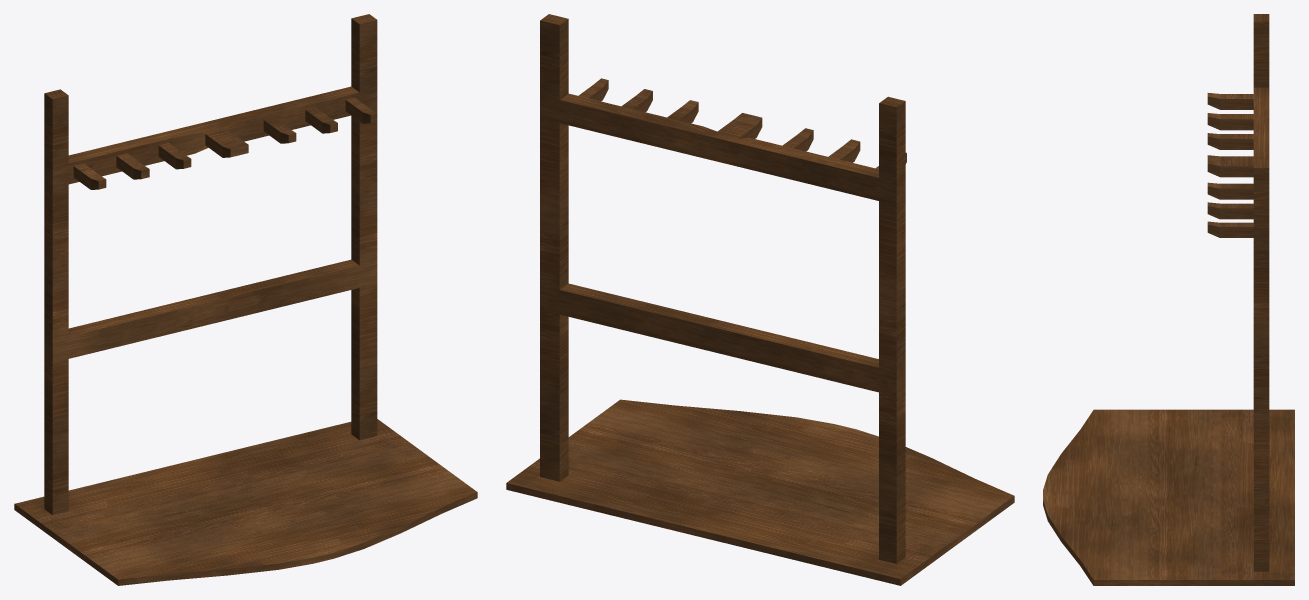
The model's file is weaponsShelf.FBX.
The picture shows the model from 3 angles, left to right: view 1: azimuth 30°, elevation 25°; view 2: azimuth 150°, elevation 25°; view 3: azimuth 270°, elevation 25°; orthographic projection. The views are drawn at different scales.
Visible parts, largest first — view 1: Box001; view 2: Box001; view 3: Box001.
Boxes of the visible parts, x1,y1,x2,y2 form: Box001: (14, 14, 477, 585); Box001: (506, 14, 1014, 585); Box001: (1043, 14, 1294, 585).
Size of the model in its own units: 60 by 67.39 by 37.52.
